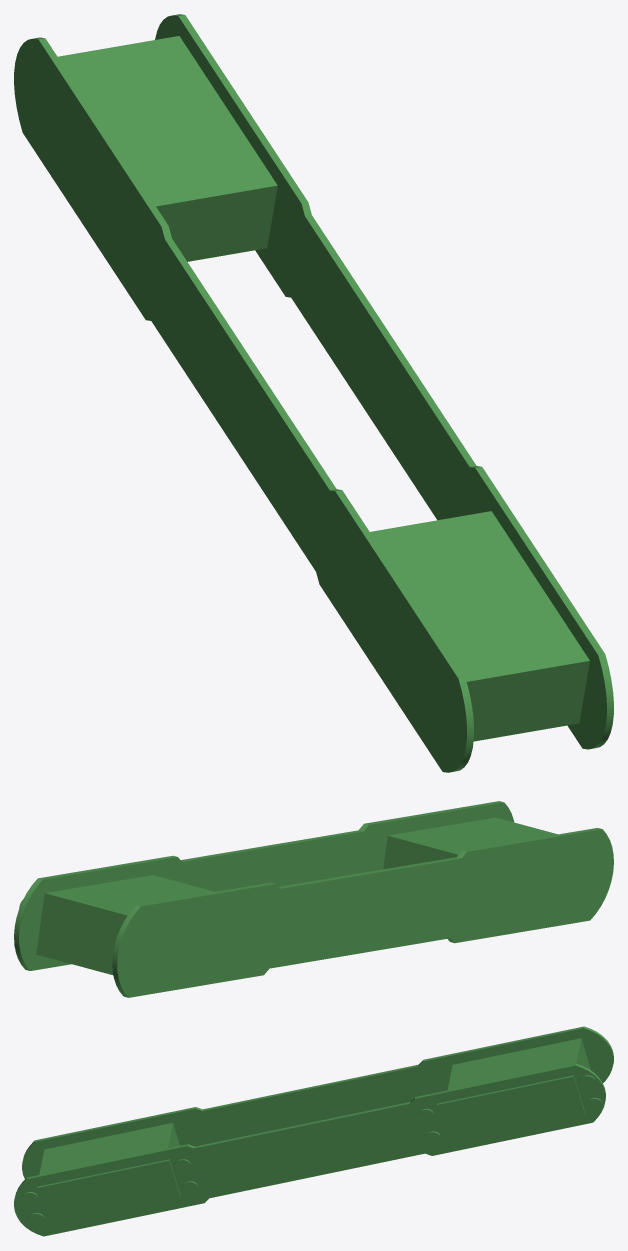
Rendered from sgmNormal2.dae.
3 views of the same model, one above another, from view 1: azimuth 30°, elevation 25°; view 2: azimuth 150°, elevation 25°; view 3: azimuth 270°, elevation 25° (orthographic). The views are drawn at different scales.
Visible parts, largest first — view 1: group_0 (×6); view 2: group_0 (×6); view 3: group_0 (×8).
Part boxes in pixels (box(x1,y1,x2,y2)): group_0 (×6): box(14, 14, 613, 772); group_0 (×6): box(14, 801, 613, 997); group_0 (×8): box(14, 1026, 613, 1236).
Bounding box in the file's own units: 27.4 × 113 × 40.51.
